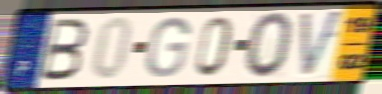0: (89, 15, 136, 82), (194, 14, 236, 78)
B: (37, 17, 91, 83)
G: (143, 15, 193, 80)
O: (243, 10, 295, 80)
V: (299, 7, 346, 80)
